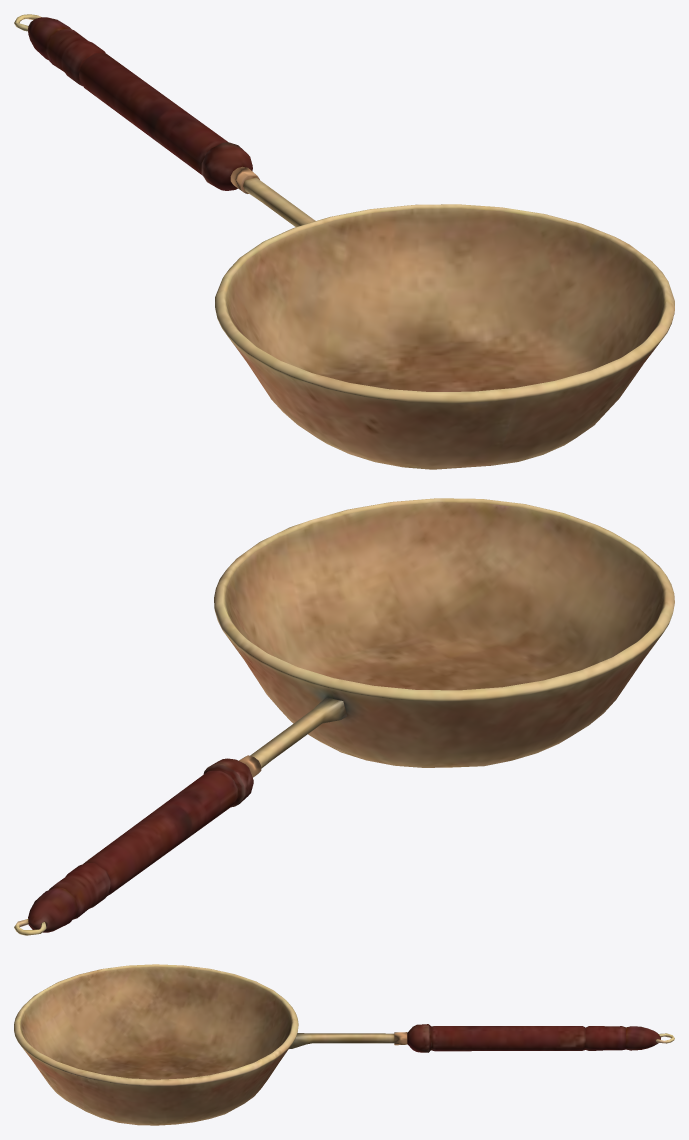
Rendered from ph_brass_pan_01.glb.
3 renders of one model, top to bottom at view 1: azimuth 30°, elevation 25°; view 2: azimuth 150°, elevation 25°; view 3: azimuth 270°, elevation 25°, orthographic. The views are drawn at different scales.
Parts seen in each view (by area): view 1: brass_pan_01; view 2: brass_pan_01; view 3: brass_pan_01.
Boxes of the visible parts, x1=… form: brass_pan_01: x1=14, y1=14, x2=674, y2=469; brass_pan_01: x1=14, y1=498, x2=674, y2=935; brass_pan_01: x1=14, y1=964, x2=674, y2=1125.
Size of the model in its own units: 0.1913 by 0.0523 by 0.4497.
1 material, 1 textured.
